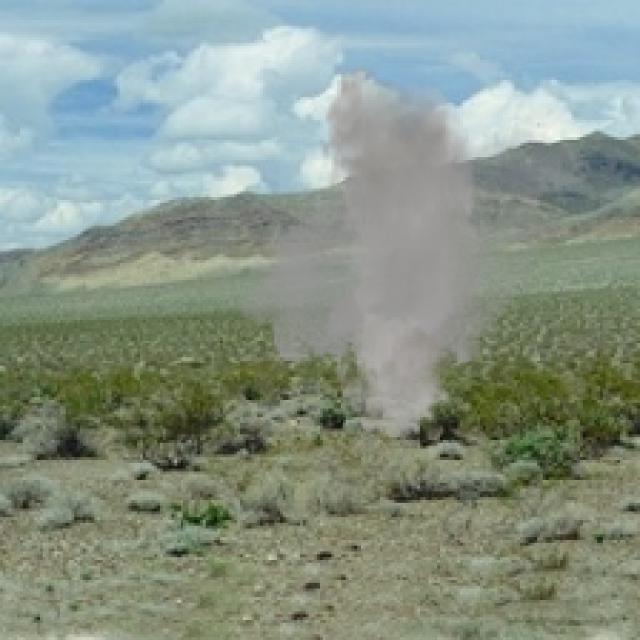smoke: (226, 66, 594, 440)
